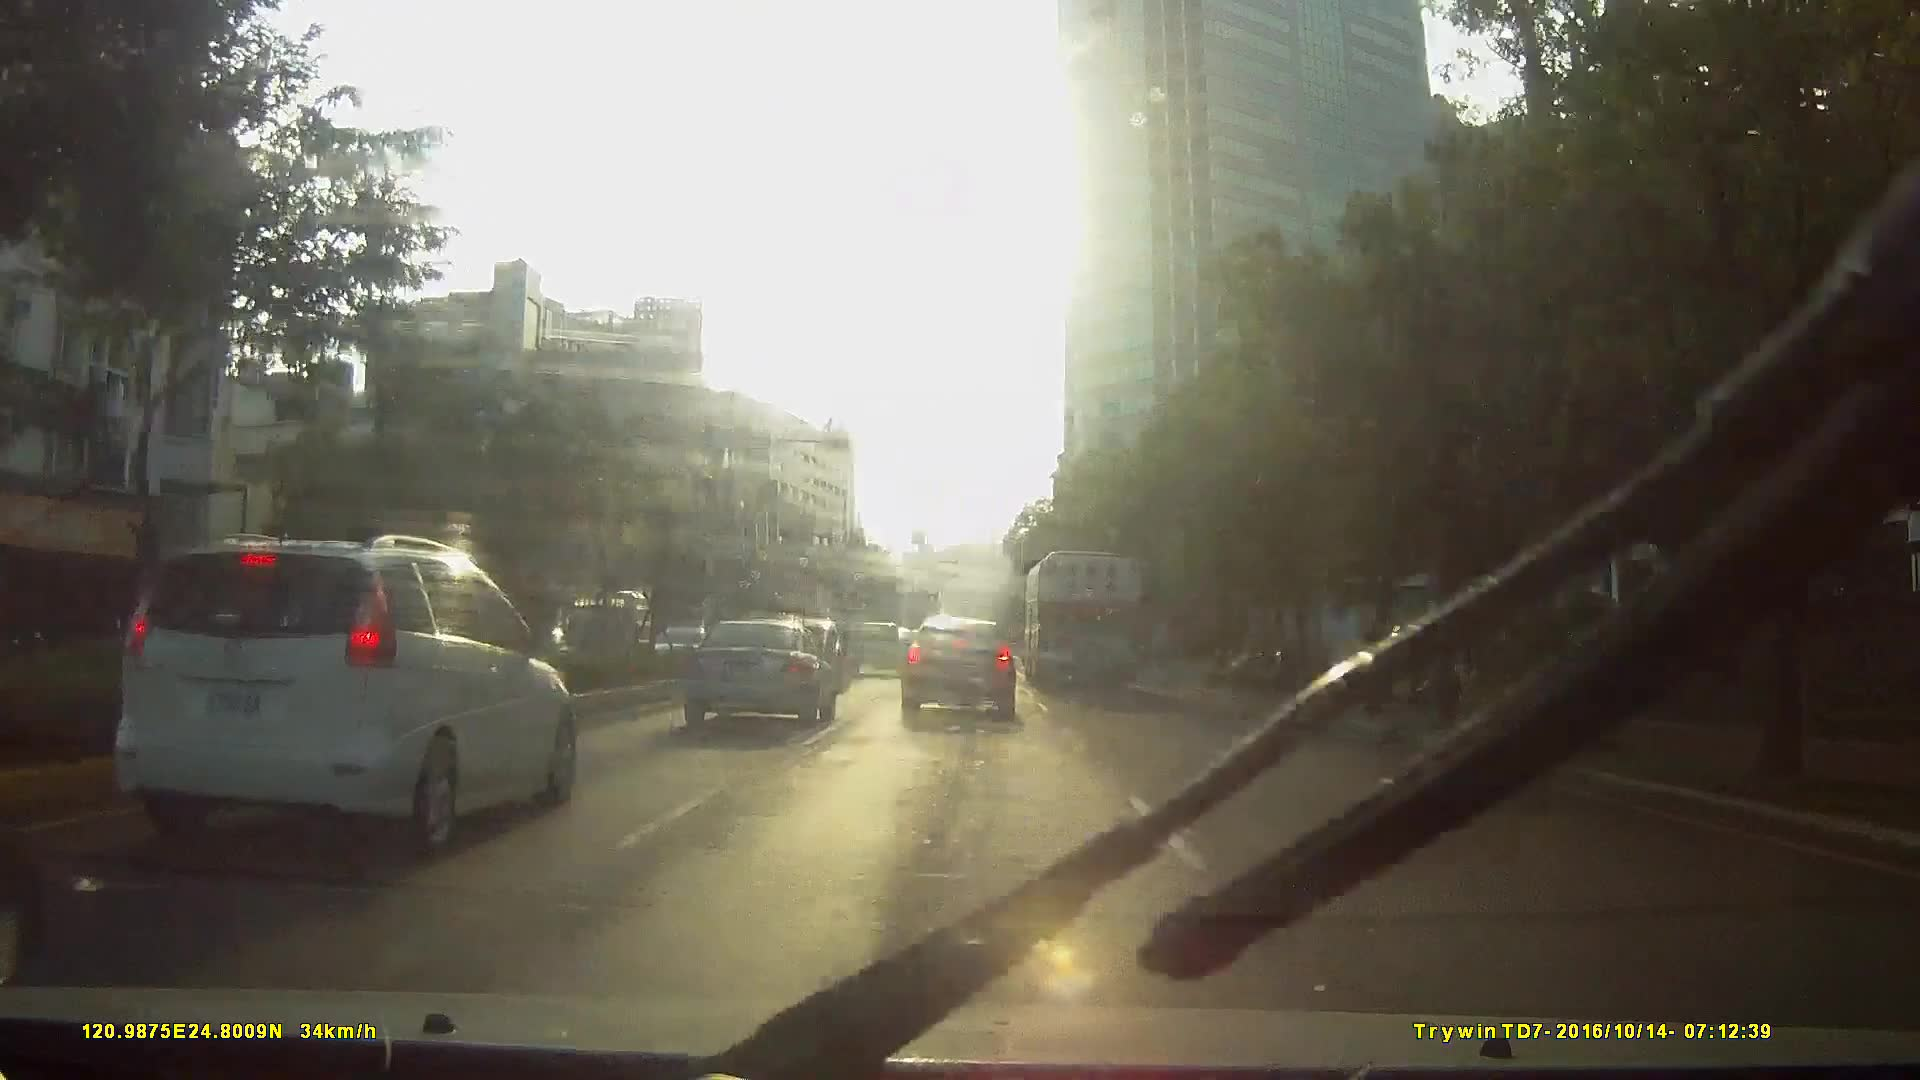vehicle: (100, 524, 584, 873), (251, 556, 684, 868), (671, 615, 833, 732), (1021, 541, 1143, 691), (897, 616, 1019, 721), (547, 587, 644, 671), (847, 620, 903, 676)
